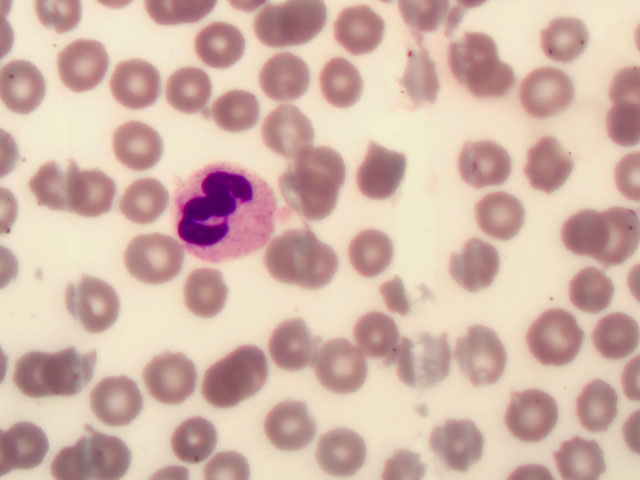RBC: (55, 36, 112, 92), (112, 55, 169, 111), (161, 58, 218, 114), (187, 9, 244, 65), (200, 79, 257, 135), (246, 48, 303, 104), (242, 6, 299, 62), (335, 6, 392, 62), (313, 54, 370, 110), (258, 98, 315, 154), (293, 129, 350, 185), (284, 165, 341, 221), (359, 145, 416, 201), (344, 224, 401, 280), (282, 229, 339, 285), (177, 262, 234, 318), (127, 231, 184, 287), (125, 173, 182, 229), (107, 114, 164, 170), (76, 168, 133, 224), (45, 158, 102, 214), (57, 285, 114, 341), (45, 343, 102, 399), (8, 348, 65, 404), (1, 411, 58, 467), (77, 424, 134, 480), (88, 368, 145, 424), (141, 347, 198, 403), (196, 353, 253, 409), (225, 329, 282, 385), (263, 314, 320, 370), (317, 343, 374, 399), (347, 301, 404, 357), (311, 418, 368, 474), (262, 396, 319, 452), (167, 414, 224, 470), (423, 411, 480, 467), (397, 335, 454, 391), (459, 326, 516, 382), (452, 226, 509, 282), (465, 176, 522, 232), (449, 138, 506, 194), (511, 134, 568, 190), (521, 65, 578, 121), (541, 10, 598, 66), (469, 62, 526, 118), (455, 25, 512, 81), (387, 46, 444, 102), (540, 207, 597, 263), (583, 205, 640, 261), (560, 265, 617, 321), (583, 301, 640, 357), (520, 309, 577, 365), (562, 380, 619, 436), (502, 388, 559, 444), (551, 424, 608, 480), (1, 60, 57, 116)
WBC: (172, 164, 277, 261)
